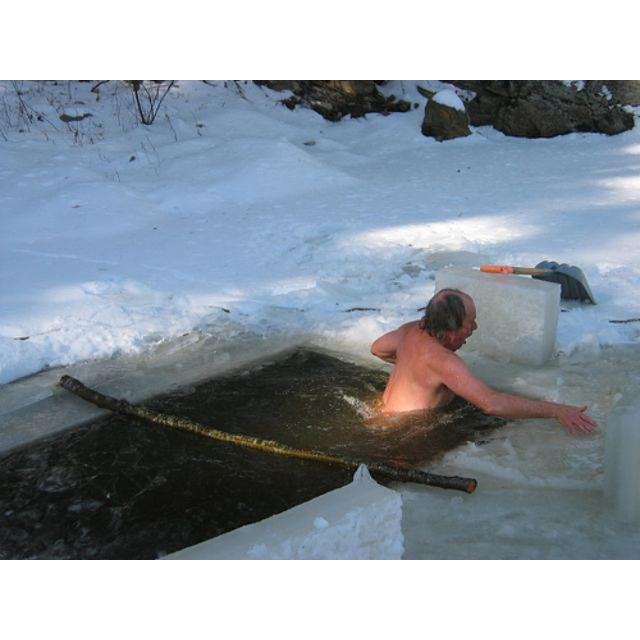human: (369, 287, 590, 444)
